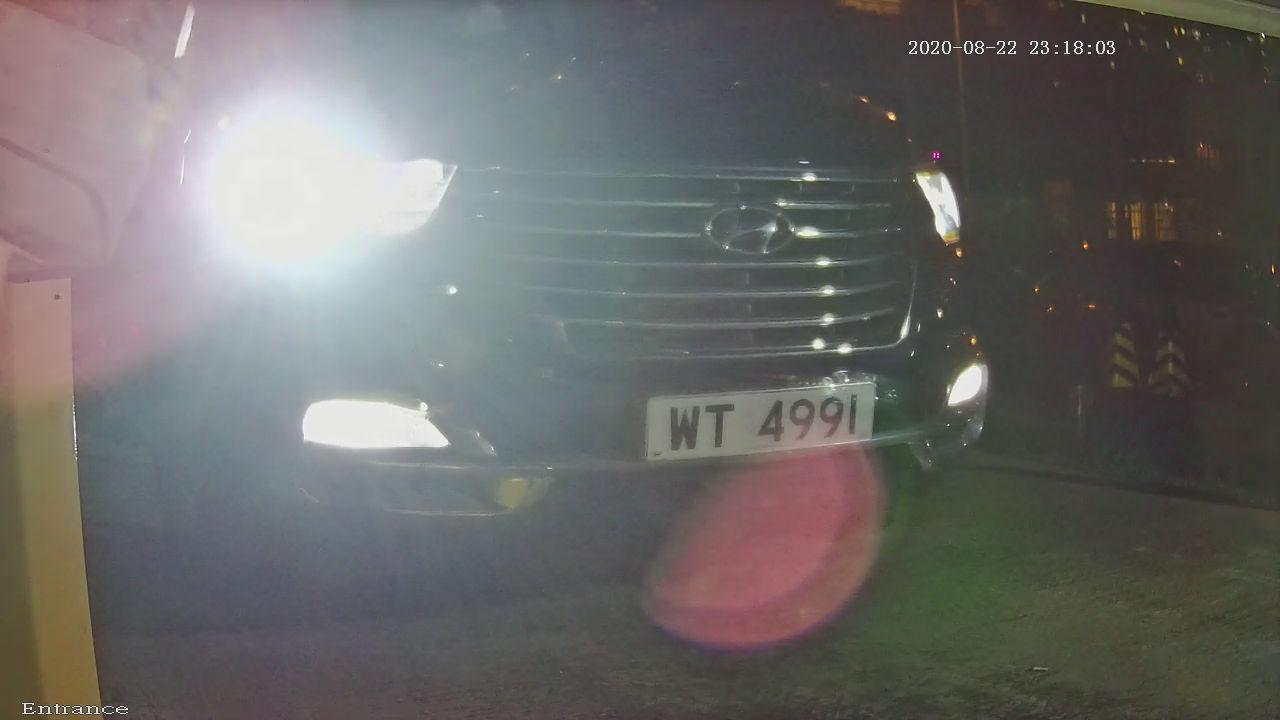Car: (18, 17, 1143, 640)
License Plate: (578, 321, 950, 517)
